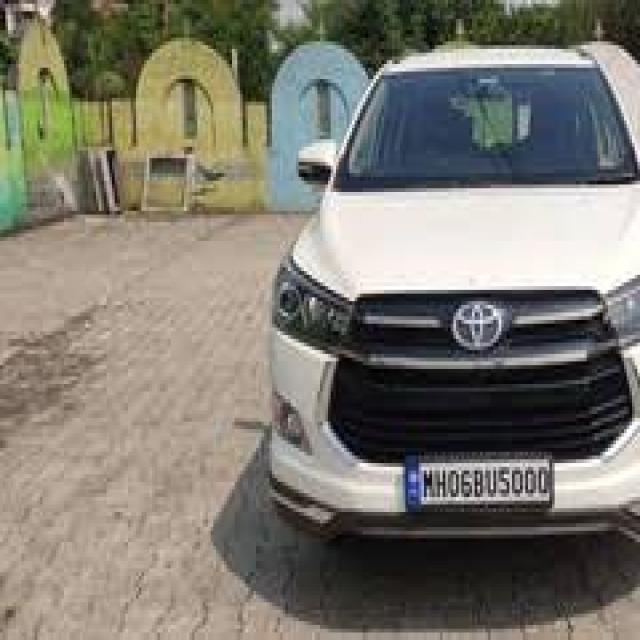cars: (258, 34, 640, 565)
